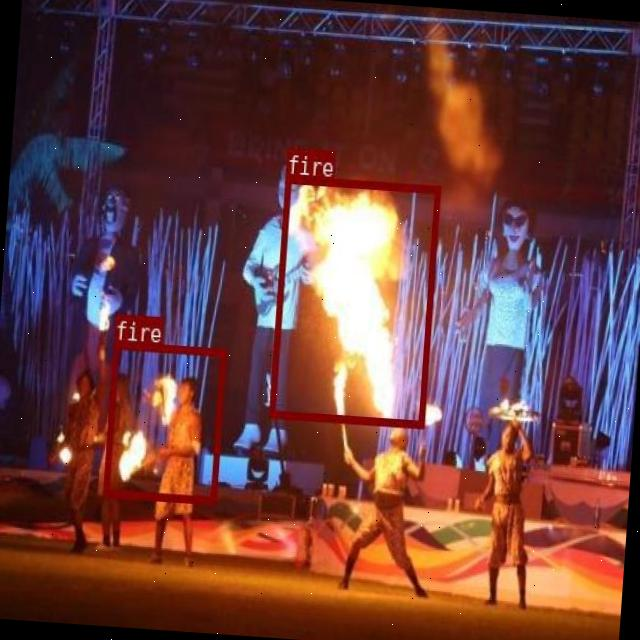fire: (268, 174, 440, 426), (101, 341, 225, 504)
